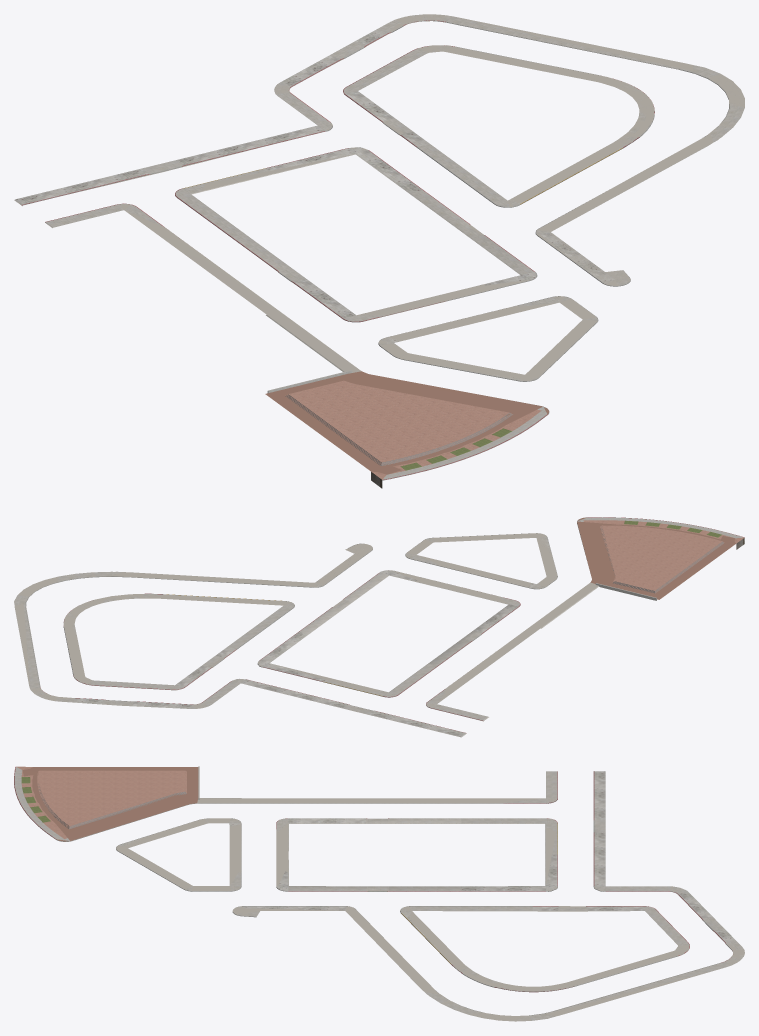
Rendered from sidewalk_dockyards.dae.
3 views of the same model, one above another, from view 1: azimuth 30°, elevation 25°; view 2: azimuth 150°, elevation 25°; view 3: azimuth 270°, elevation 25° (orthographic). The views are drawn at different scales.
Visible parts, largest first — view 1: sidewalk_dockyards_a3000, sidewalk_dockyards_a2000; view 2: sidewalk_dockyards_a3000, sidewalk_dockyards_a2000; view 3: sidewalk_dockyards_a3000, sidewalk_dockyards_a2000.
Boxes of the visible parts, <box> form: sidewalk_dockyards_a3000: <box>15,14,744,488</box>; sidewalk_dockyards_a2000: <box>14,14,744,478</box>; sidewalk_dockyards_a3000: <box>14,517,744,737</box>; sidewalk_dockyards_a2000: <box>14,517,735,737</box>; sidewalk_dockyards_a3000: <box>14,766,744,1020</box>; sidewalk_dockyards_a2000: <box>14,767,744,1021</box>.
Size of the model in its own units: 204 by 247 by 3.28.
